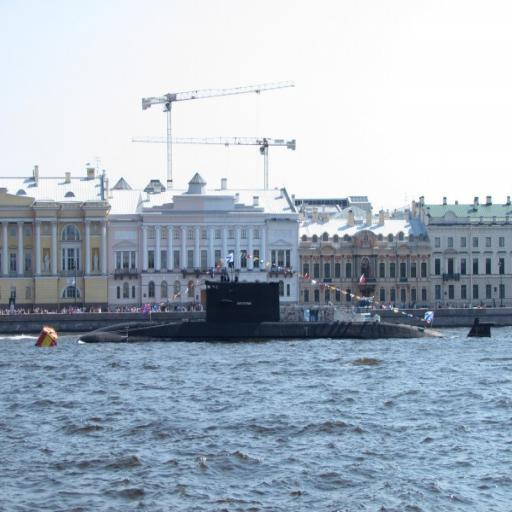submarine: (76, 287, 496, 346)
